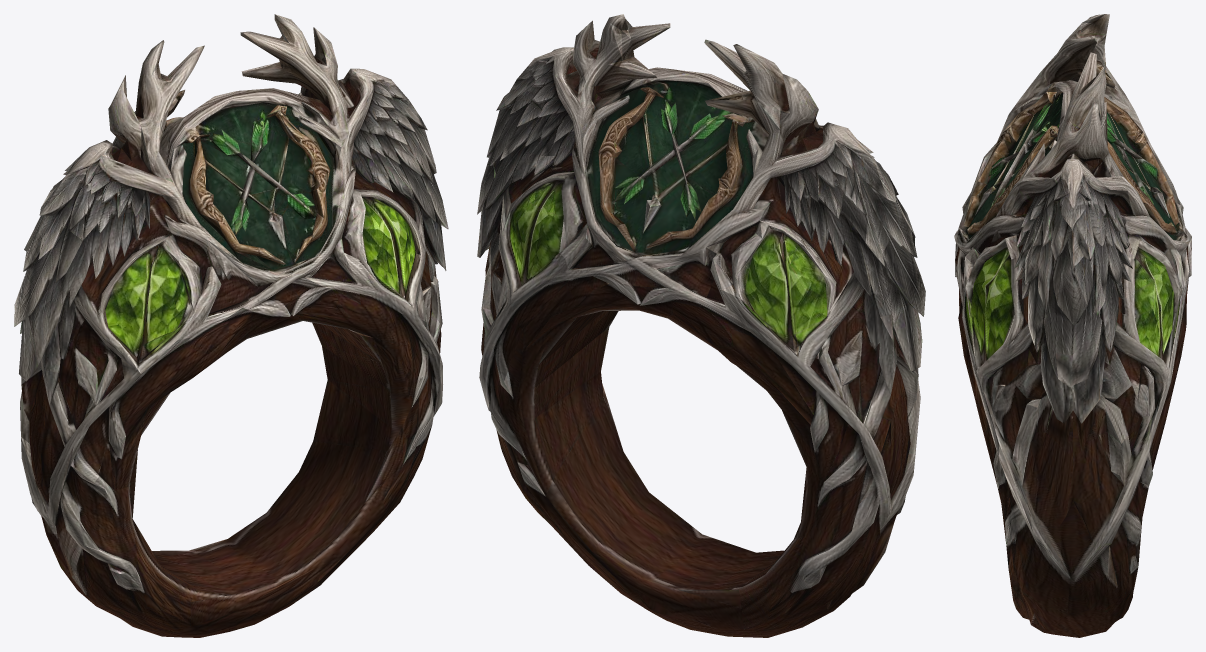
The model's file is named-bifurcation.glb.
3 renders of one model, left to right at view 1: azimuth 30°, elevation 25°; view 2: azimuth 150°, elevation 25°; view 3: azimuth 270°, elevation 25°, orthographic. The views are drawn at different scales.
Visible parts, largest first — view 1: Ring_Animation; view 2: Ring_Animation; view 3: Ring_Animation.
Part boxes in pixels (left/top/right/bottom): Ring_Animation: left=14, top=14, right=448, bottom=637; Ring_Animation: left=477, top=14, right=925, bottom=637; Ring_Animation: left=954, top=14, right=1191, bottom=637.
Size of what is drawn, in the model's own units: 1.54 by 2 by 0.729.
Materials: 1 (1 with a texture image).
